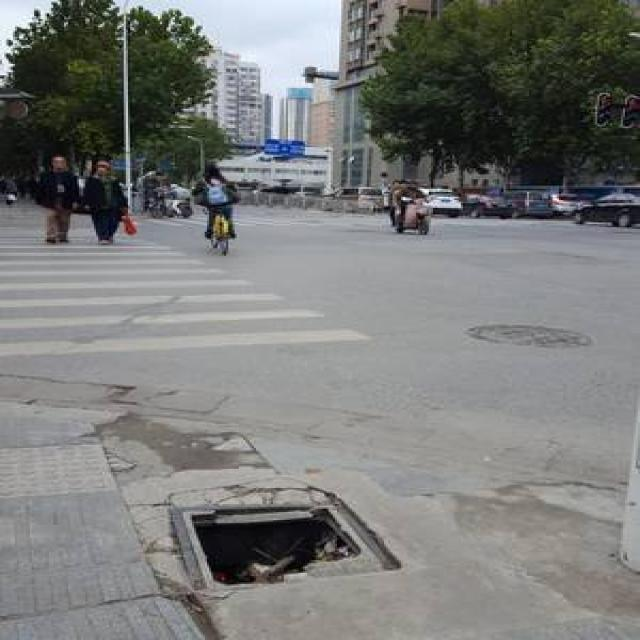manhole: (156, 488, 405, 597)
